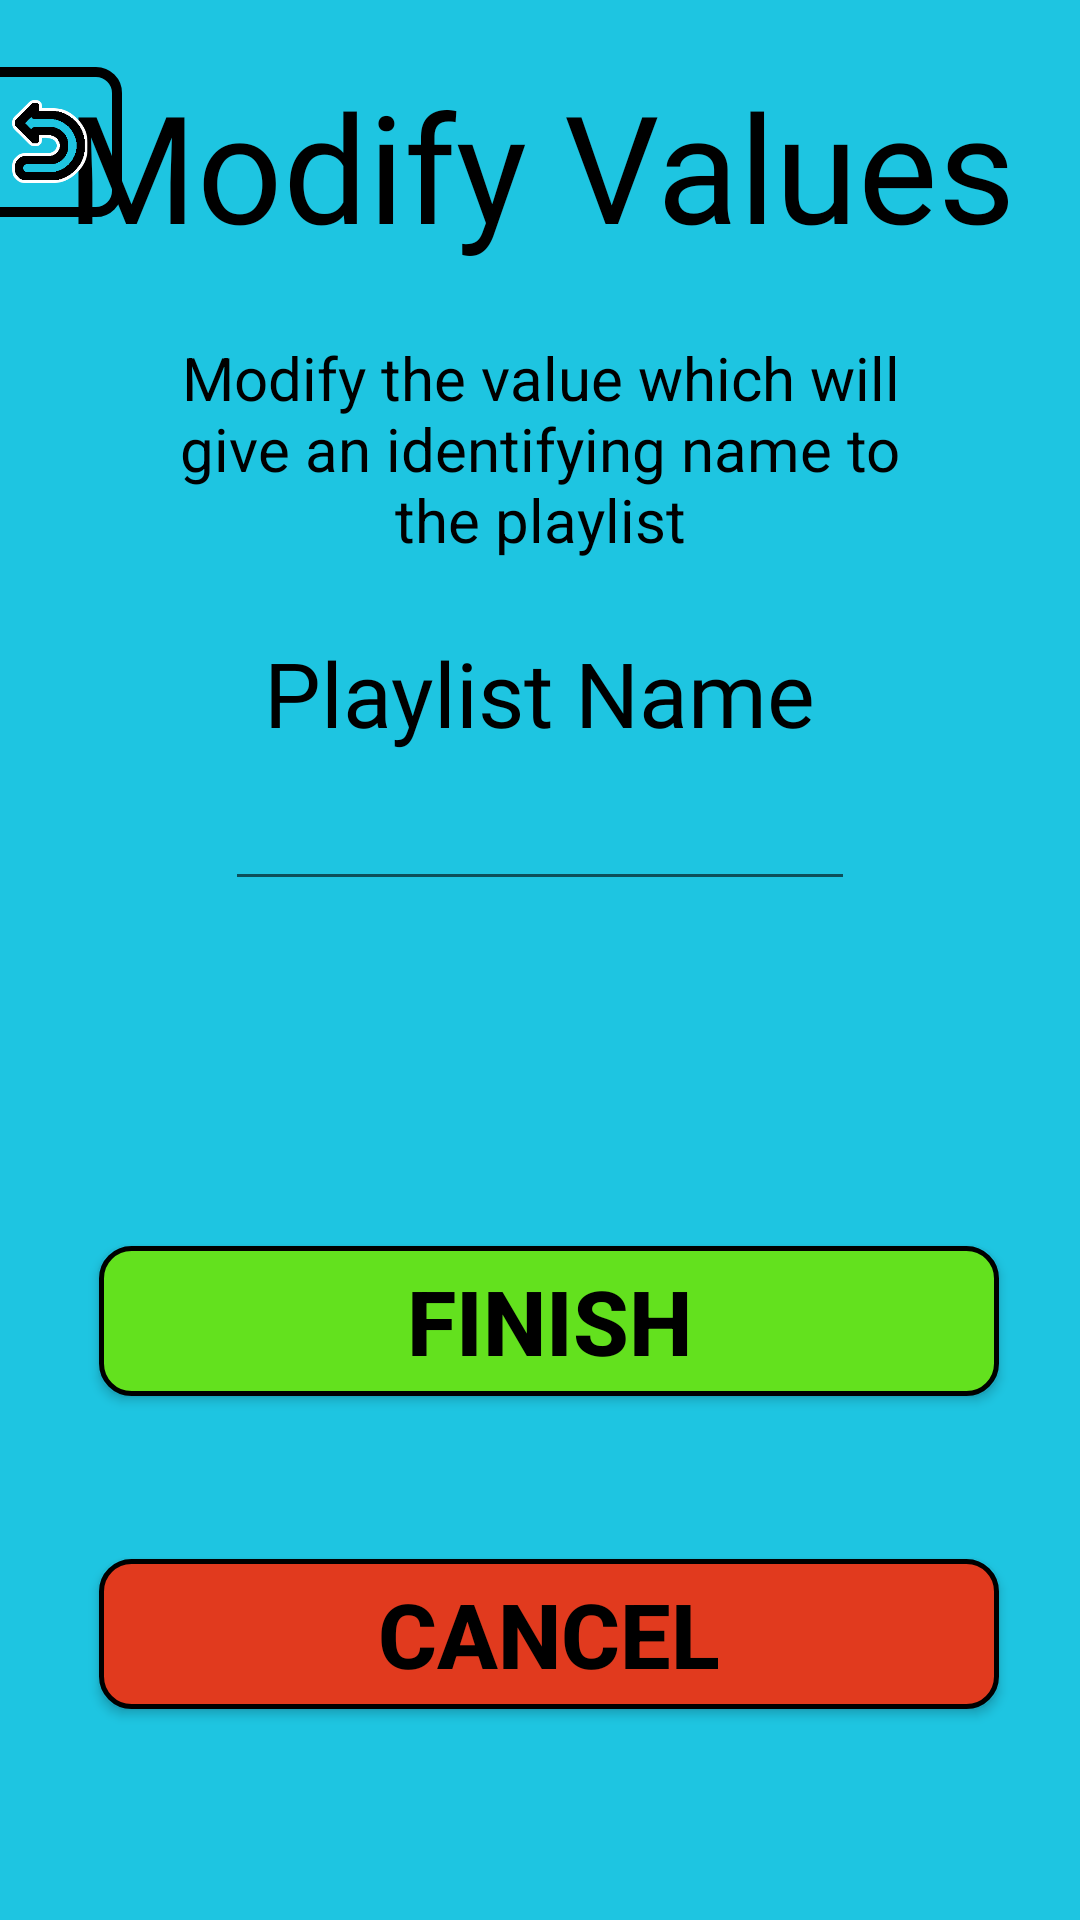

Screen size 1080w x 1920h. Icon name, then its center in pixels as point (x, y):
back: point (51, 143)
